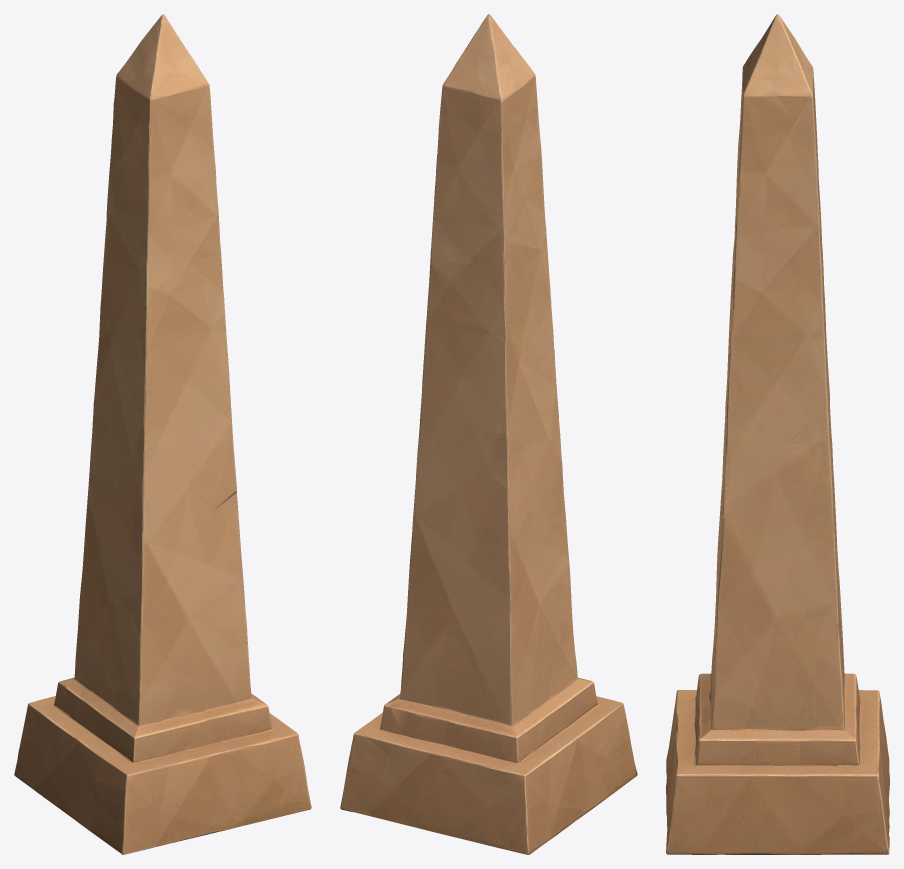
File: egypt-obelisk.glb
3 renders of one model, left to right at view 1: azimuth 30°, elevation 25°; view 2: azimuth 150°, elevation 25°; view 3: azimuth 270°, elevation 25°, orthographic.
Bounding box in the file's own units: 0.4863 × 1.9 × 0.4861.
Materials: 1 (1 with a texture image).
